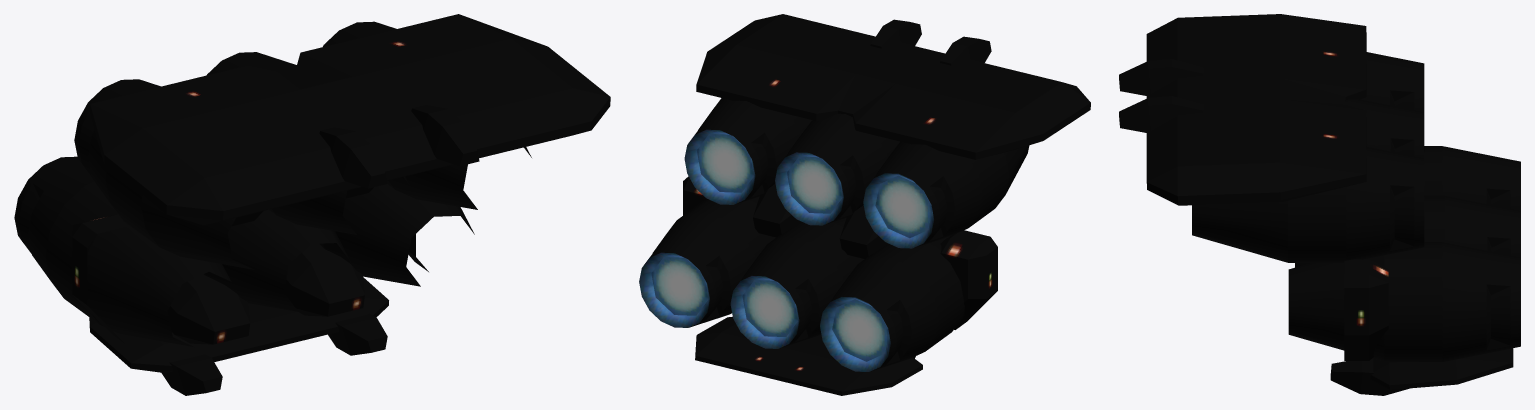
Rendered from hgn_fs_carrier_04_ion_engine_l.glb.
3 renders of one model, left to right at view 1: azimuth 30°, elevation 25°; view 2: azimuth 150°, elevation 25°; view 3: azimuth 270°, elevation 25°, orthographic. The views are drawn at different scales.
Visible parts, largest first — view 1: hgn_fs_carrier_04_engine_01_l; view 2: hgn_fs_carrier_04_engine_01_l; view 3: hgn_fs_carrier_04_engine_01_l.
Boxes of the visible parts, x1=… form: hgn_fs_carrier_04_engine_01_l: x1=14, y1=14, x2=610, y2=395; hgn_fs_carrier_04_engine_01_l: x1=639, y1=14, x2=1090, y2=395; hgn_fs_carrier_04_engine_01_l: x1=1119, y1=14, x2=1520, y2=395.
Size of the model in its own units: 2.11 by 1.53 by 2.01.
1 material, 1 textured.
